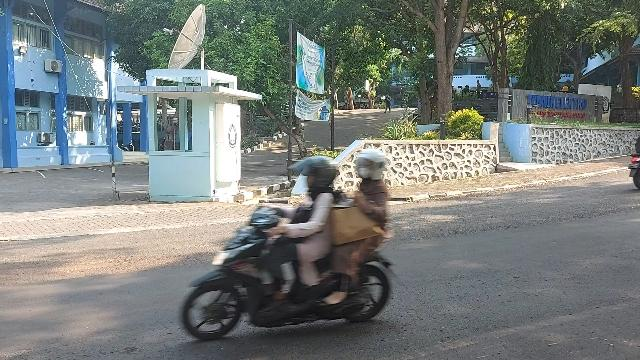helm: (290, 157, 337, 188), (358, 150, 386, 181)
motor: (184, 205, 402, 341)
